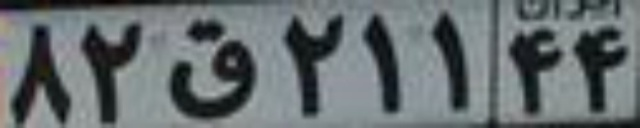1: (426, 12, 473, 109), (364, 15, 402, 112)
2: (80, 21, 142, 123), (282, 14, 344, 115)
4: (571, 27, 627, 113), (509, 30, 563, 114)
8: (11, 24, 70, 124)
ghaf: (160, 19, 256, 119)
